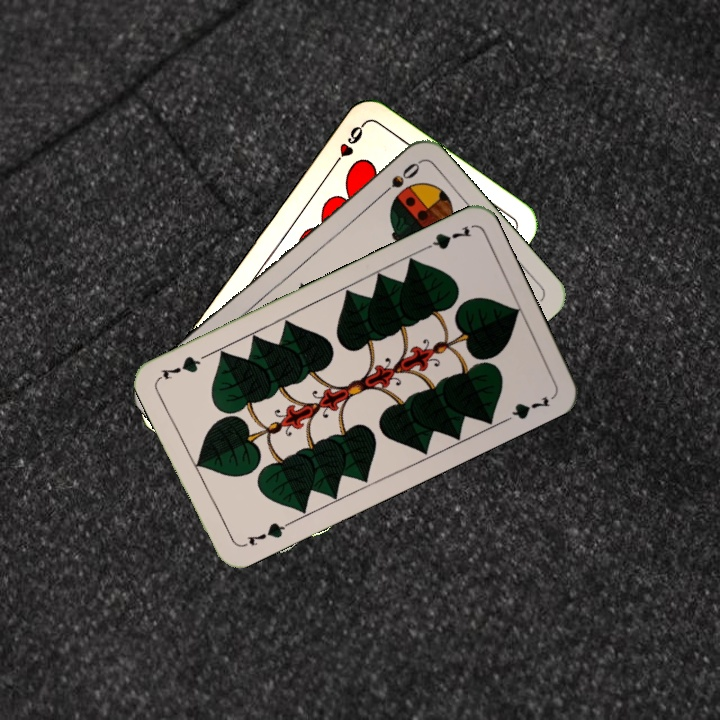G7: (417, 221, 474, 254), (237, 518, 293, 550)
H9: (327, 119, 367, 171)
SO: (373, 158, 423, 202)
